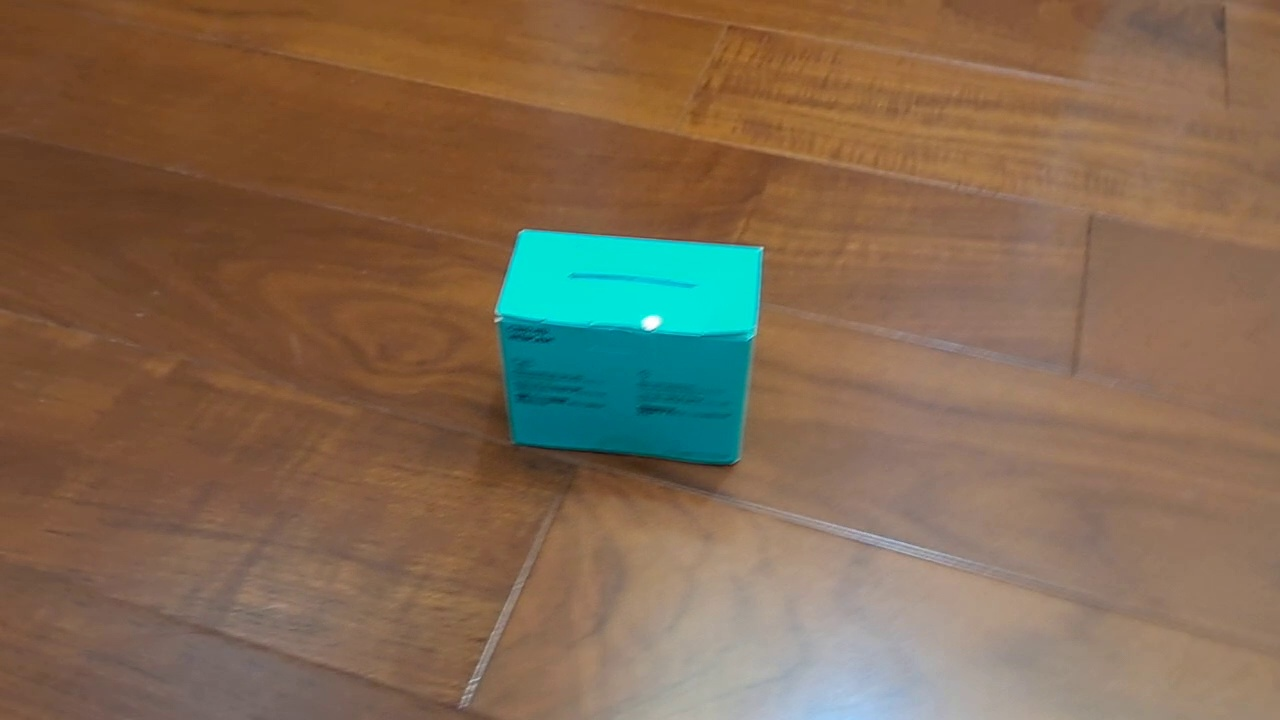webcam: (490, 227, 766, 467)
